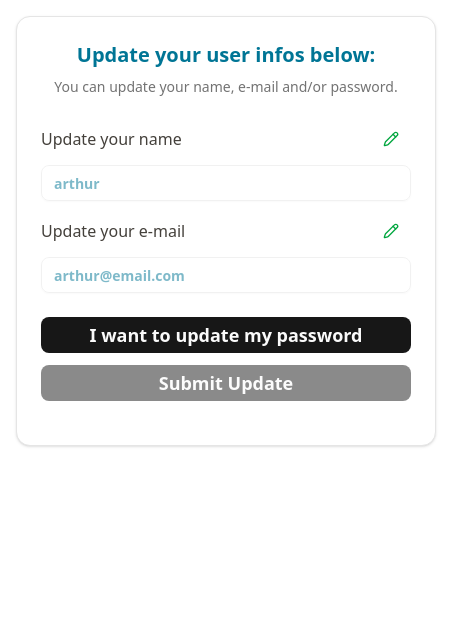
it: UpdateUserForm › renders with correct initial values and shows password fields when clicked
Expected: the 1st field showing "arthur" is shown, [41,165,411,201]
Expected: the field showing "arthur@email.com" below "Update your e-mail" is shown, [41,257,411,293]
Step 1. Click the button "I want to update my password" → (226, 335), box [41,317,411,353]
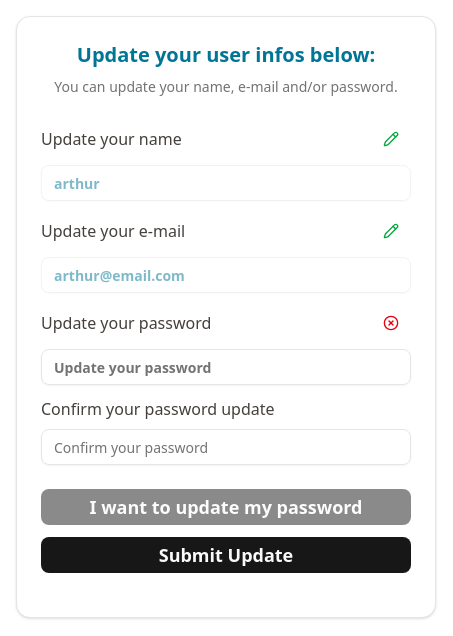
Now the text "Update your password" is shown, box [41,305,211,341]
Now the text "Confirm your password update" is shown, box [41,397,275,421]
